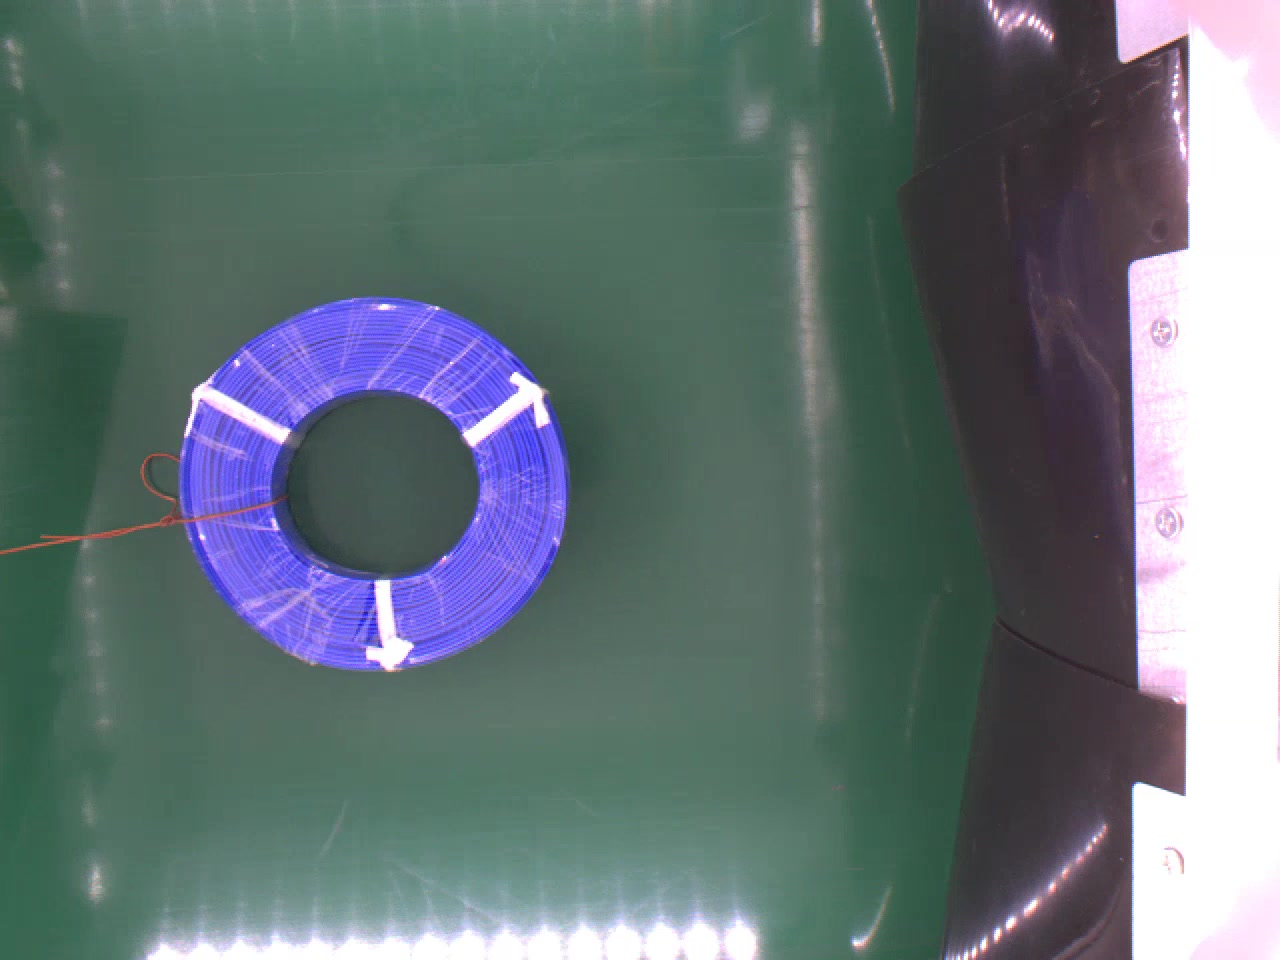blue: (176, 295, 566, 672)
